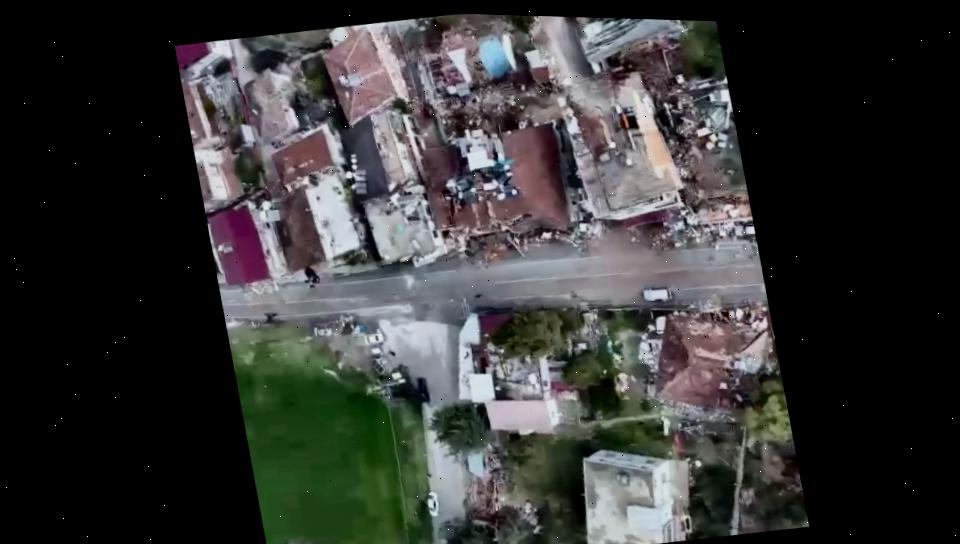kapali: (387, 19, 492, 281)
